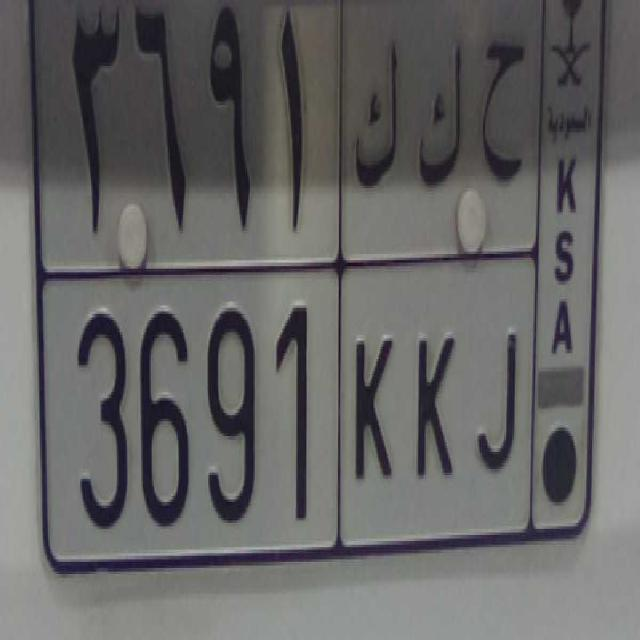license_plate: (44, 265, 532, 580)
